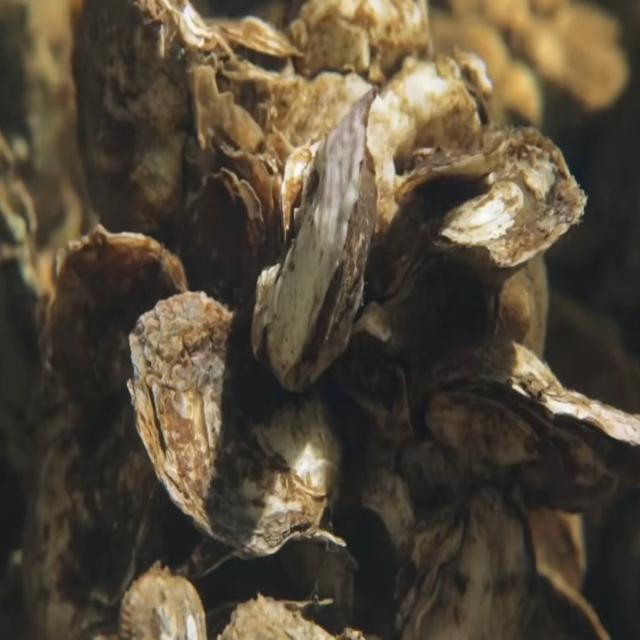Oyster-Closed: (39, 221, 190, 640), (380, 126, 589, 333), (410, 339, 640, 519), (249, 85, 381, 392), (388, 485, 540, 640)
Oyster-Indeterminate: (126, 288, 348, 559), (75, 1, 216, 250), (185, 166, 267, 308)
Oyster-Open: (182, 528, 348, 616)
